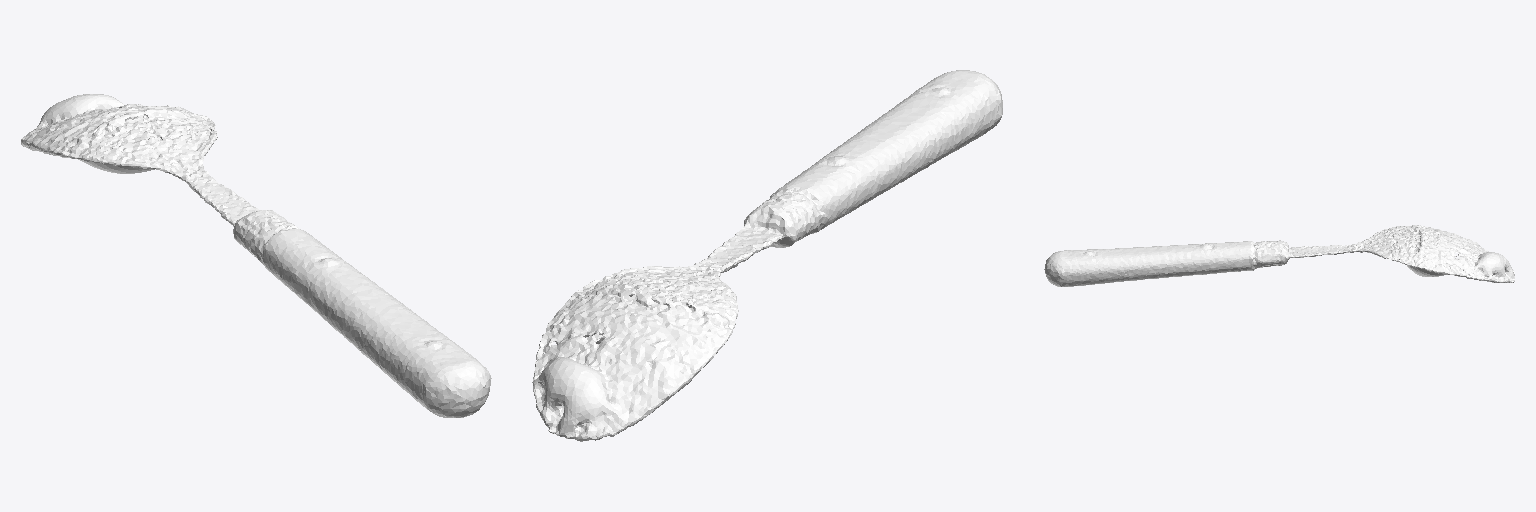
URDF robot description (spoon):
<robot name="spoon">
    <link name="base_link">
        <visual>
            <origin xyz="-0.0 0.0 -0.0" rpy="0.0 0.0 0.0" />
            <geometry>
                <mesh filename="spoon/textured.obj" scale="1 1 1" />
            </geometry>
            <material name="texture">
                <color rgba="1.0 1.0 1.0 1.0" />
            </material>
        </visual>
        <collision>
            <origin xyz="-0.0 0.0 -0.0" rpy="0.0 0.0 0.0" />
            <geometry>
                <mesh filename="spoon/textured_coacd_0.stl" scale="1 1 1" />
            </geometry>
        </collision>
        <collision>
            <origin xyz="-0.0 0.0 -0.0" rpy="0.0 0.0 0.0" />
            <geometry>
                <mesh filename="spoon/textured_coacd_1.stl" scale="1 1 1" />
            </geometry>
        </collision>
        <collision>
            <origin xyz="-0.0 0.0 -0.0" rpy="0.0 0.0 0.0" />
            <geometry>
                <mesh filename="spoon/textured_coacd_2.stl" scale="1 1 1" />
            </geometry>
        </collision>
        <collision>
            <origin xyz="-0.0 0.0 -0.0" rpy="0.0 0.0 0.0" />
            <geometry>
                <mesh filename="spoon/textured_coacd_3.stl" scale="1 1 1" />
            </geometry>
        </collision>
        <inertial>
            <mass value="0.03" />
            <inertia ixx="1e-3" ixy="0.0" ixz="0.0" iyy="1e-3" iyz="0.0" izz="1e-3" />
        </inertial>
    </link>
</robot>

--- What the picture shows (computed from the rendered views, not written in the file) ---
3 views of the same robot in one strip: view 1: azimuth 30°, elevation 25°; view 2: azimuth 150°, elevation 25°; view 3: azimuth 270°, elevation 25° (orthographic).
Model spoon with 1 links and 0 joints (none), rooted at base_link, posed all joints at 0.
Visible links, largest first — view 1: base_link; view 2: base_link; view 3: base_link.
Boxes of the visible links, box(x1,y1,x2,y2) form: base_link: box(21, 94, 491, 417); base_link: box(532, 70, 1002, 441); base_link: box(1044, 225, 1514, 286).
Bounding box of the posed robot: 0.0415 × 0.1957 × 0.0204 m (x, y, z).
Meshes: 1 distinct files referenced, 1 mesh visuals loaded (1 OBJ).